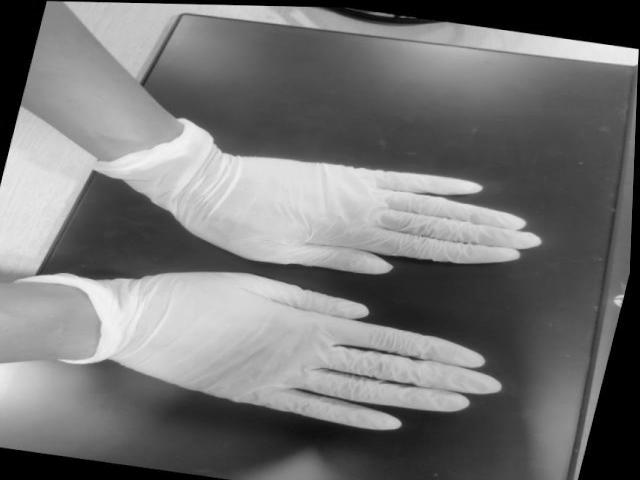gloved: (150, 272, 500, 433), (214, 154, 536, 274)
